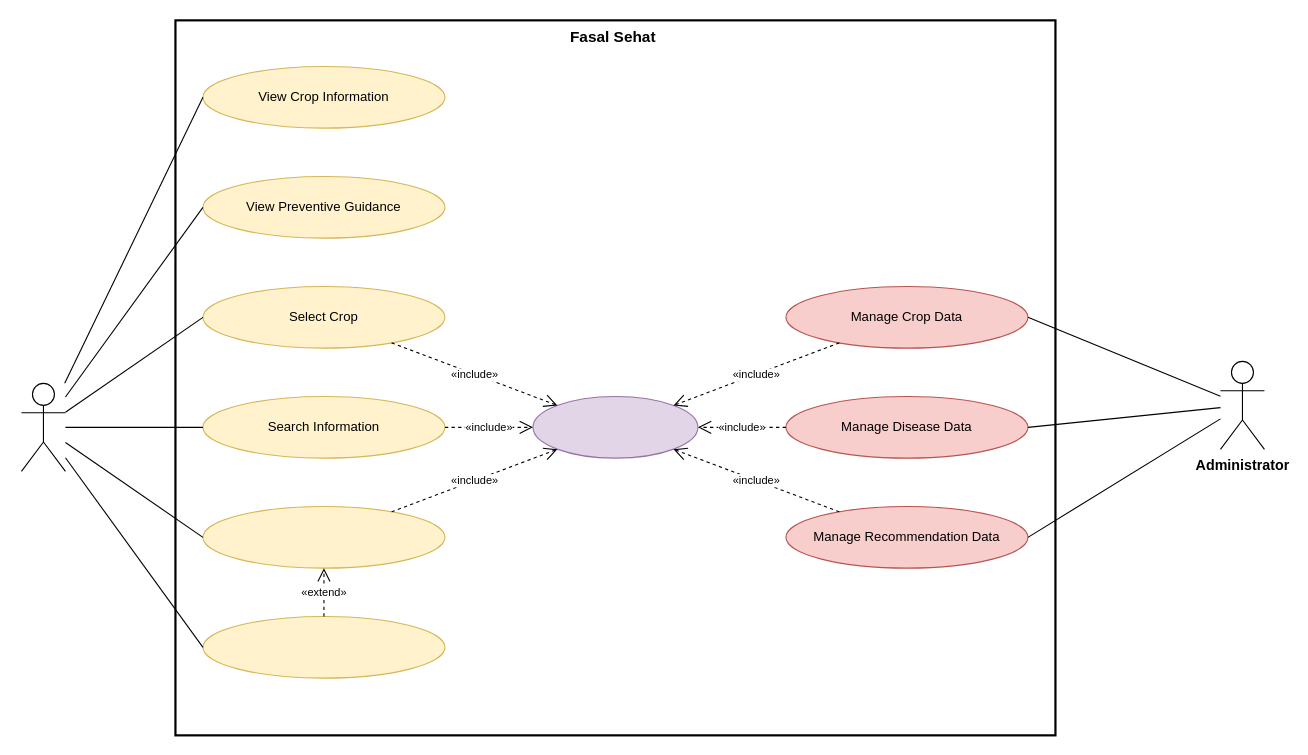
Image size: 1308x755. Some labels were removed from this diagram. Each missing label, with the box of its shape:
Farmer: (20, 382, 65, 471)
Identify Crop Problem: (202, 505, 445, 568)
Validate User Input: (532, 395, 698, 458)
View Recommendations: (202, 615, 445, 678)
